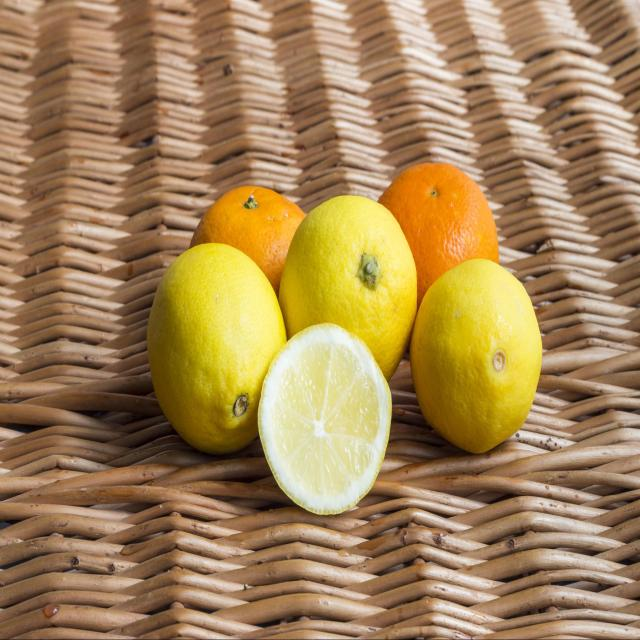lemon: (143, 240, 290, 463), (406, 256, 546, 458), (256, 319, 395, 519)
